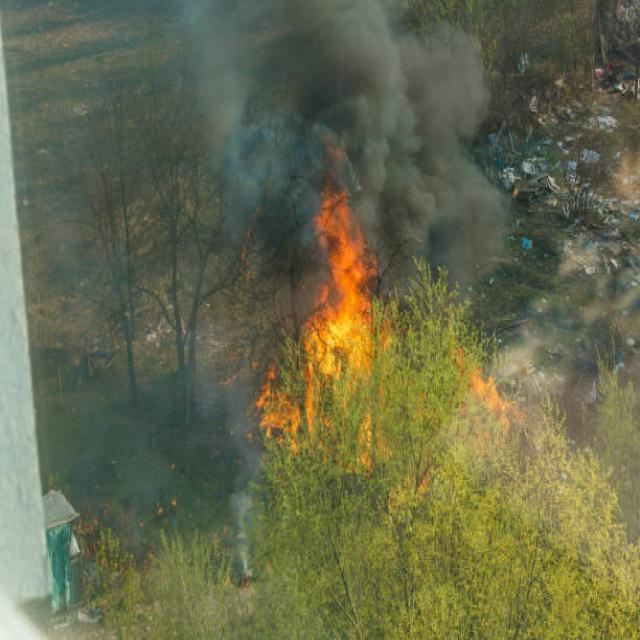Fire: (260, 198, 398, 428)
Smoke: (223, 0, 503, 295)
